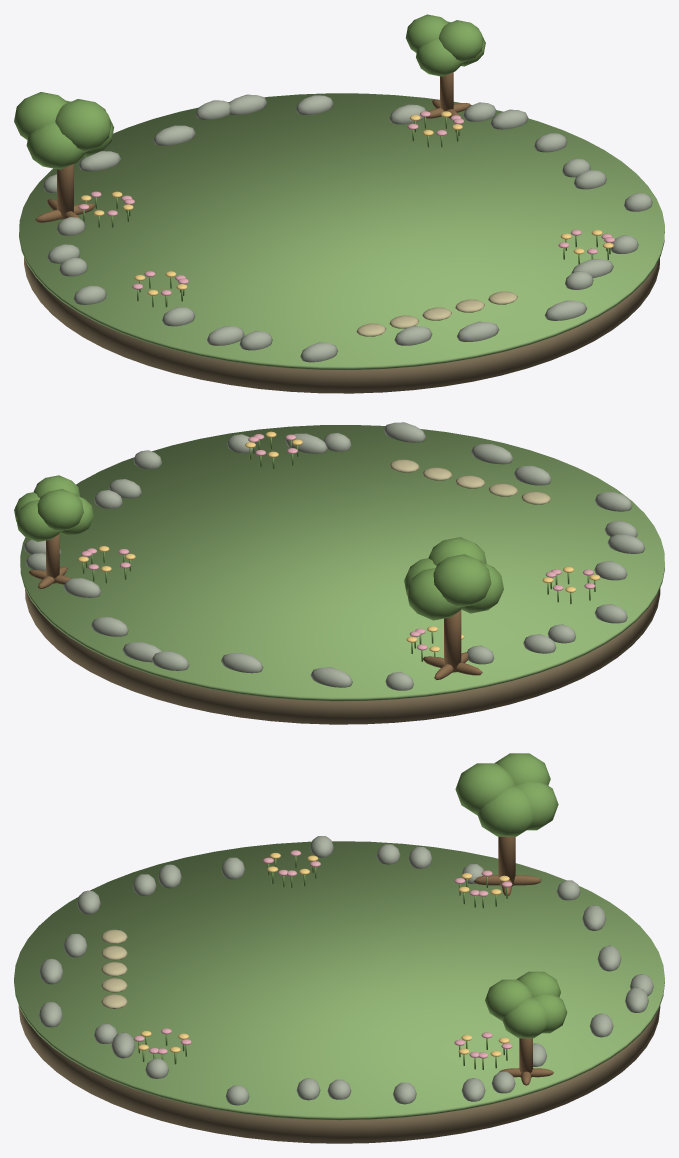
Rendered from habitat-meadow.glb.
3 renders of one model, top to bottom at view 1: azimuth 30°, elevation 25°; view 2: azimuth 150°, elevation 25°; view 3: azimuth 270°, elevation 25°, orthographic.
Visible parts, largest first — view 1: Walkable moss meadow, Layered island soil, habitat-meadow_rock, habitat-meadow_leaf, habitat-meadow_bark, habitat-meadow_sand, habitat-meadow_pink, habitat-meadow_flower; view 2: Walkable moss meadow, Layered island soil, habitat-meadow_rock, habitat-meadow_leaf, habitat-meadow_bark, habitat-meadow_sand, habitat-meadow_pink, habitat-meadow_flower; view 3: Walkable moss meadow, Layered island soil, habitat-meadow_rock, habitat-meadow_leaf, habitat-meadow_bark, habitat-meadow_sand, habitat-meadow_pink, habitat-meadow_flower.
Part boxes in pixels (x1,y1,x2,y2): Walkable moss meadow: (19,93,664,369); Layered island soil: (24,257,659,393); habitat-meadow_rock: (43,94,652,362); habitat-meadow_leaf: (14,14,610,307); habitat-meadow_bark: (35,72,470,222); habitat-meadow_sand: (356,291,517,336); habitat-meadow_pink: (78,111,615,295); habitat-meadow_flower: (80,111,613,295); Walkable moss meadow: (20,425,664,701); Layered island soil: (25,588,660,724); habitat-meadow_rock: (23,422,645,690); habitat-meadow_leaf: (14,437,595,661); habitat-meadow_bark: (28,533,482,680); habitat-meadow_sand: (390,459,550,504); habitat-meadow_pink: (81,434,595,650); habitat-meadow_flower: (78,431,600,651); Walkable moss meadow: (14,841,664,1120); Layered island soil: (18,1005,660,1143); habitat-meadow_rock: (39,836,653,1105); habitat-meadow_leaf: (138,753,567,1069); habitat-meadow_bark: (473,836,553,1085); habitat-meadow_sand: (101,929,127,1008); habitat-meadow_pink: (133,850,512,1058); habitat-meadow_flower: (138,852,509,1056).
Bounding box in the file's own units: 13.6 × 3.47 × 13.6.
